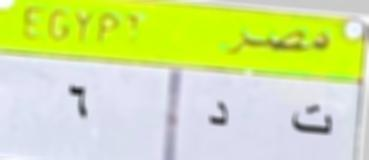6: (64, 81, 92, 124)
daal: (203, 96, 233, 132)
taa: (286, 98, 339, 139)
